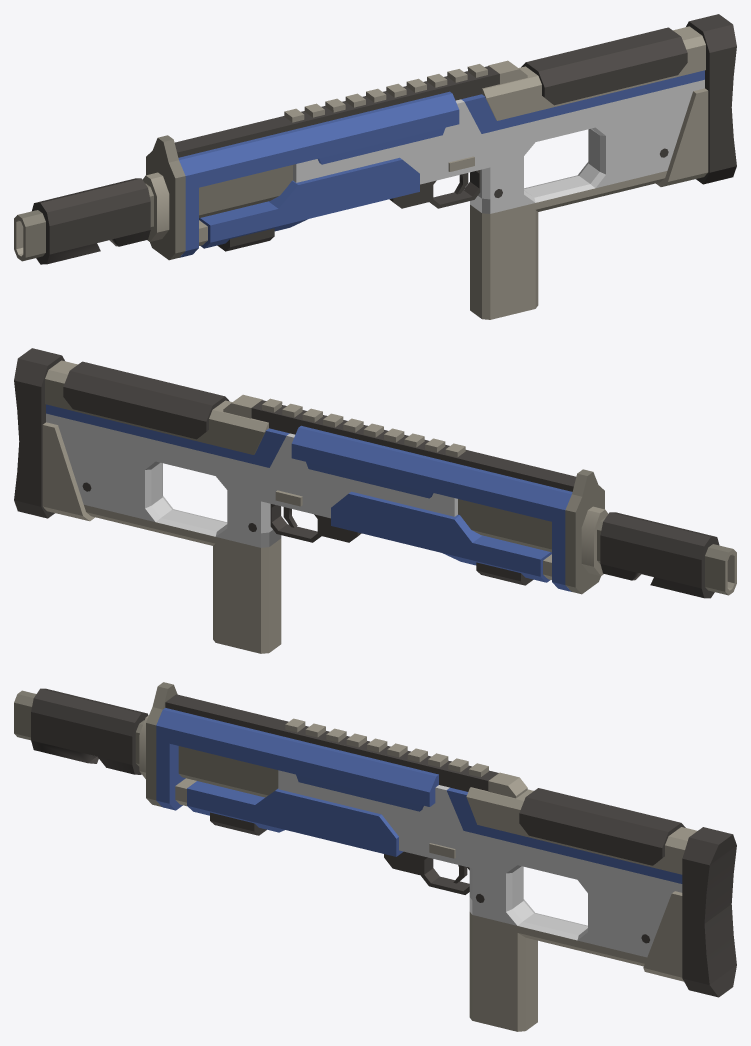
The model's file is Gun03.fbx.
The picture shows the model from 3 angles, top to bottom: view 1: azimuth 30°, elevation 25°; view 2: azimuth 150°, elevation 25°; view 3: azimuth 330°, elevation 25°; orthographic projection.
Visible parts, largest first — view 1: Gun03; view 2: Gun03; view 3: Gun03.
Boxes of the visible parts, bbox=[...] form: Gun03: bbox=[14, 14, 736, 319]; Gun03: bbox=[14, 348, 736, 653]; Gun03: bbox=[14, 682, 736, 1031].
Bounding box in the file's own units: 36.21 × 12.33 × 2.61.
Materials: 1 (1 with a texture image).
